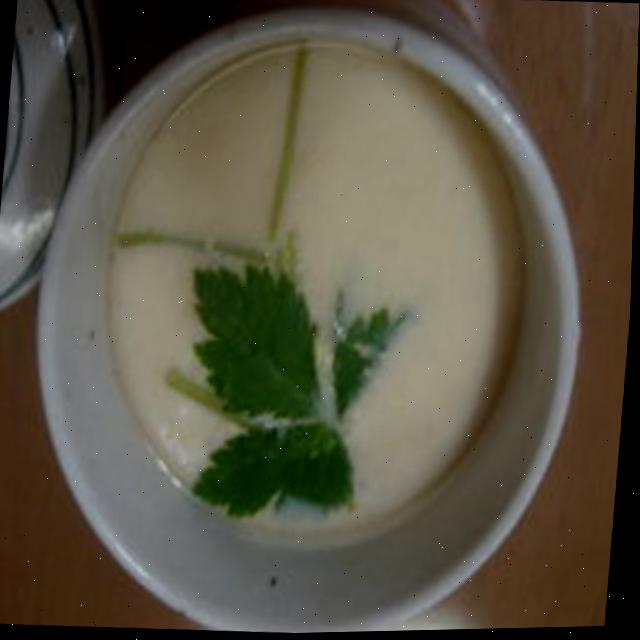鸡蛋料理: (24, 0, 602, 631)
